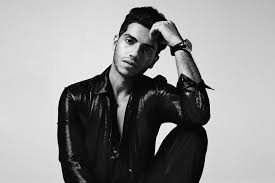middle_eastern_male: (114, 17, 162, 75)
